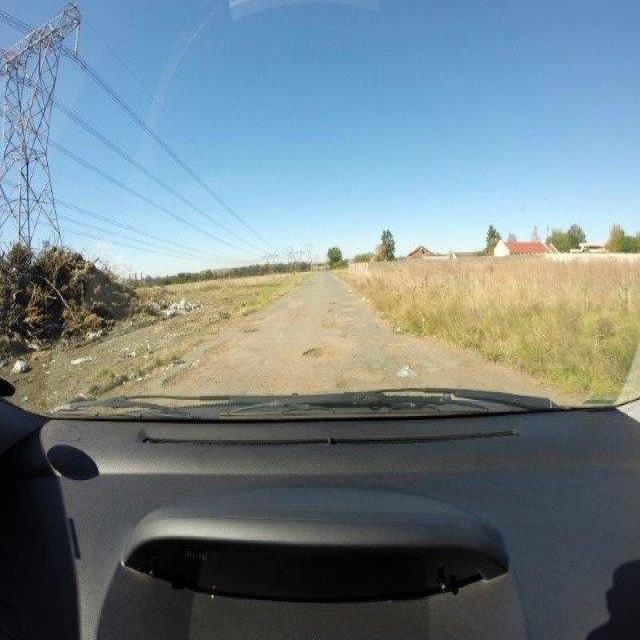lubang: (160, 364, 210, 390), (316, 314, 353, 337), (202, 338, 231, 362), (301, 344, 340, 357), (240, 322, 263, 336)
